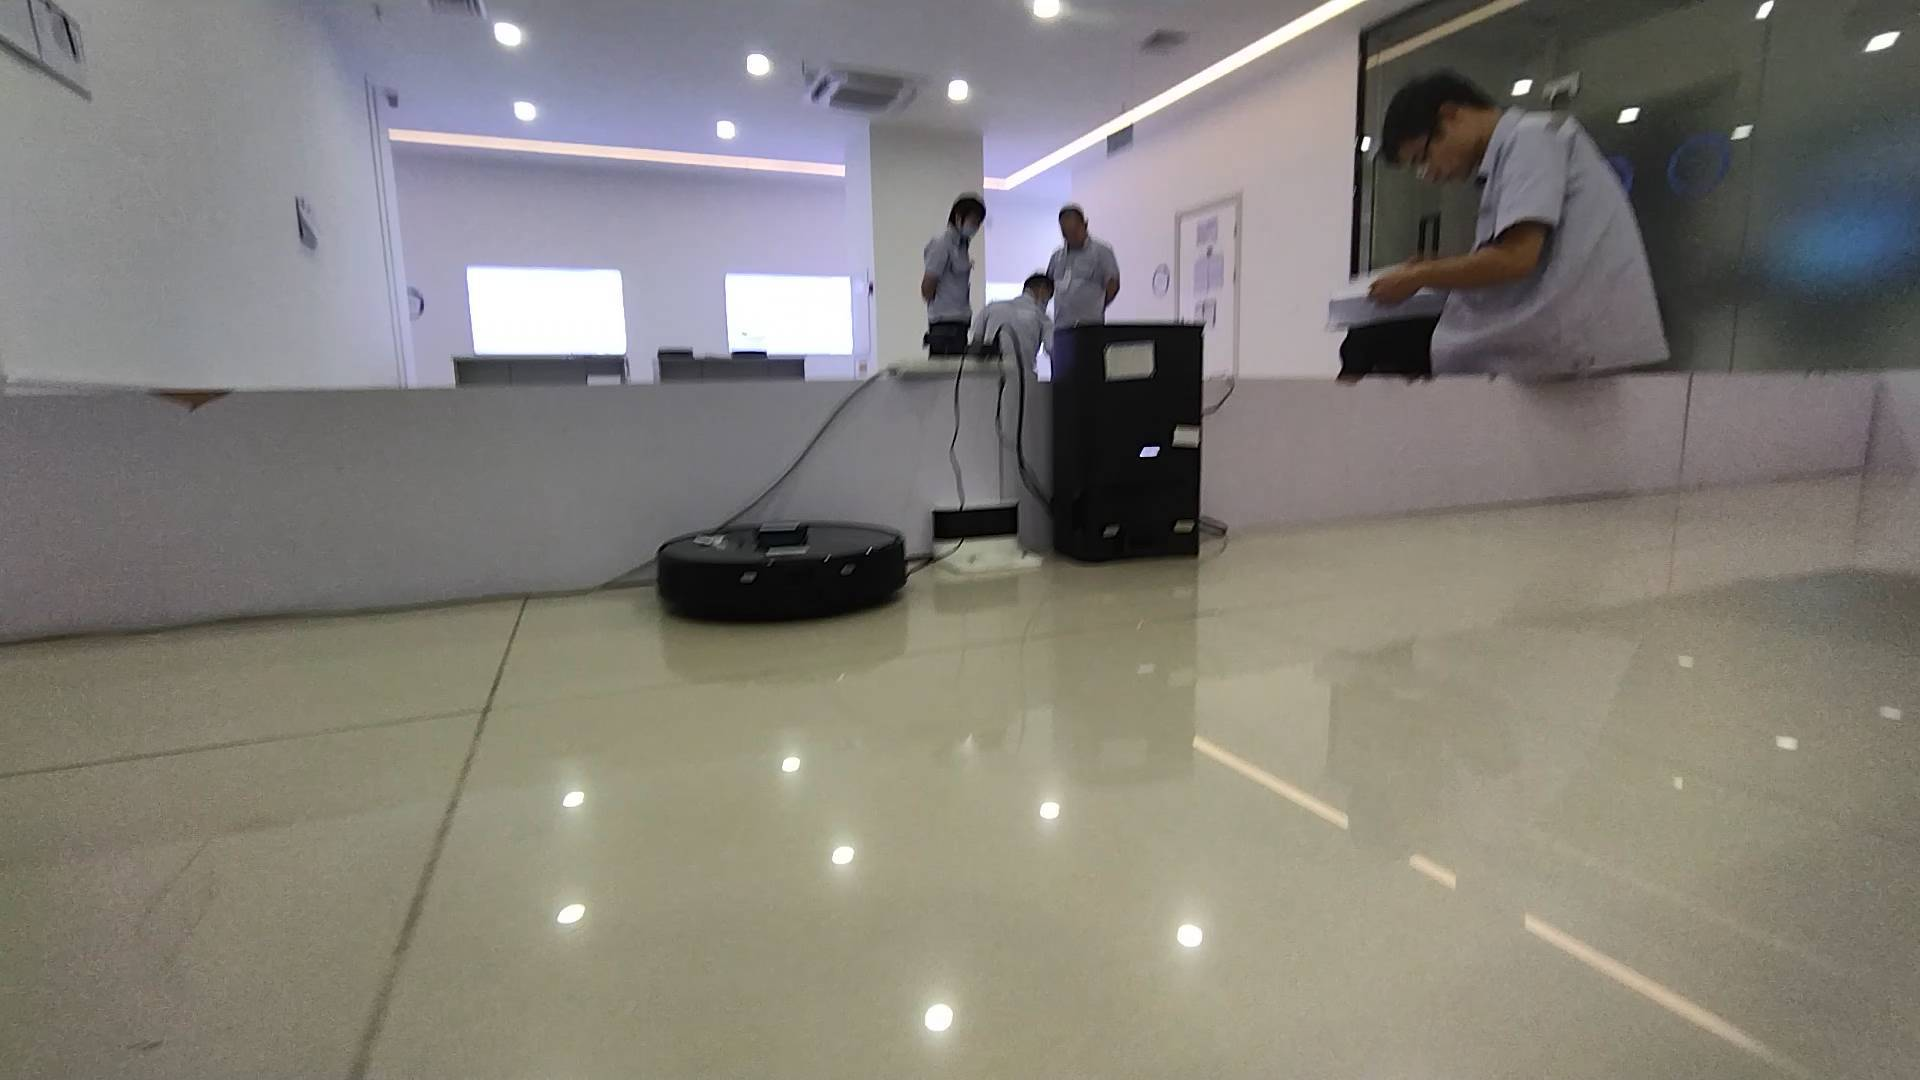dust collecting barrel: (1044, 322, 1207, 564)
recharge seat: (930, 502, 1047, 574)
